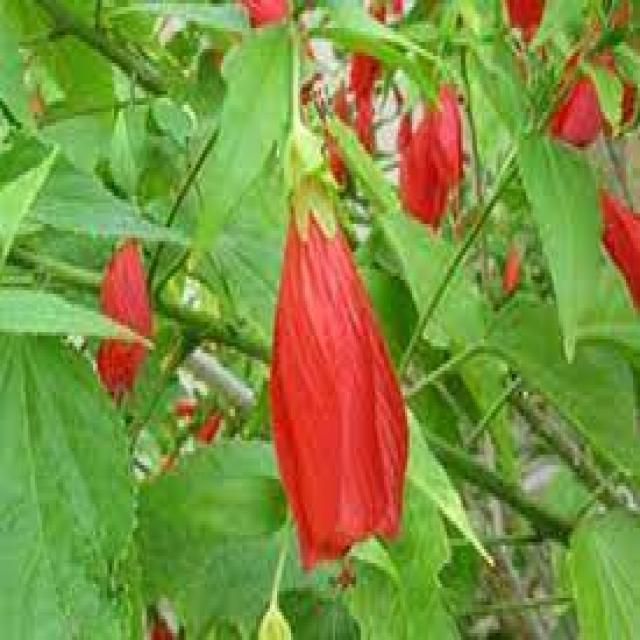Flower: (261, 115, 419, 584)
